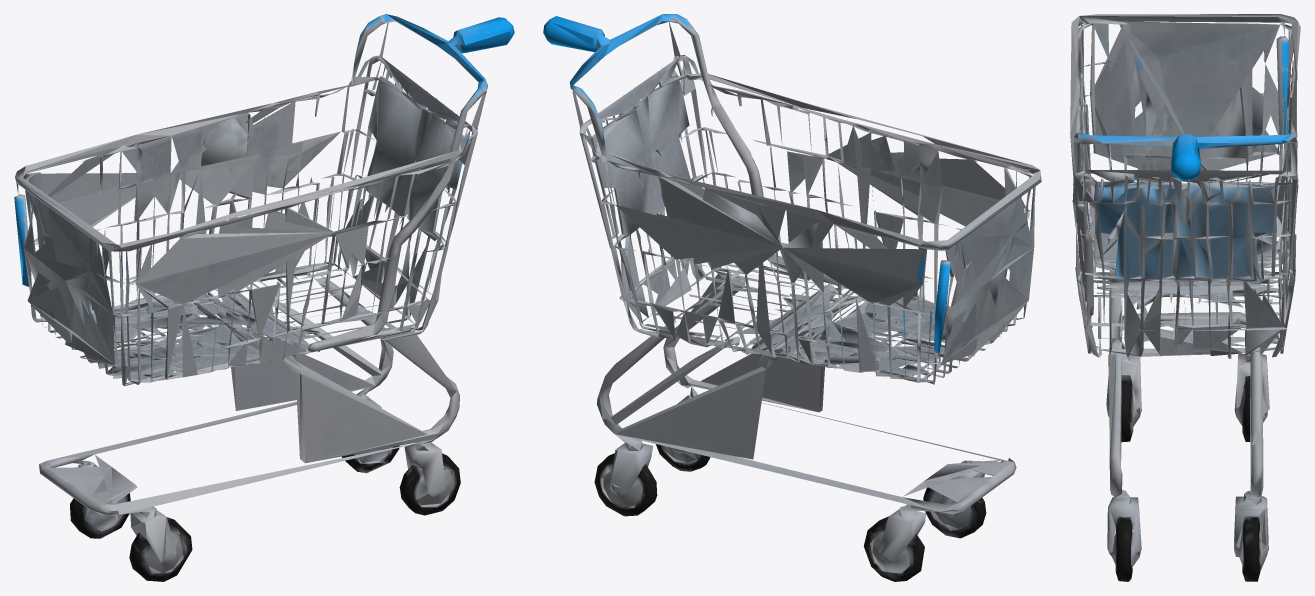
Rendered from addy_shopping_cart.obj.
3 views of the same model, side by side, from view 1: azimuth 30°, elevation 25°; view 2: azimuth 150°, elevation 25°; view 3: azimuth 270°, elevation 25° (orthographic). The views are drawn at different scales.
Parts seen in each view (by area): view 1: model; view 2: model; view 3: model.
Part boxes in pixels (left/top/right/bottom): model: left=14, top=14, right=514, bottom=581; model: left=543, top=14, right=1041, bottom=581; model: left=1070, top=14, right=1300, bottom=581.
Size of the model in its own units: 1.9 by 1.8 by 0.788.
